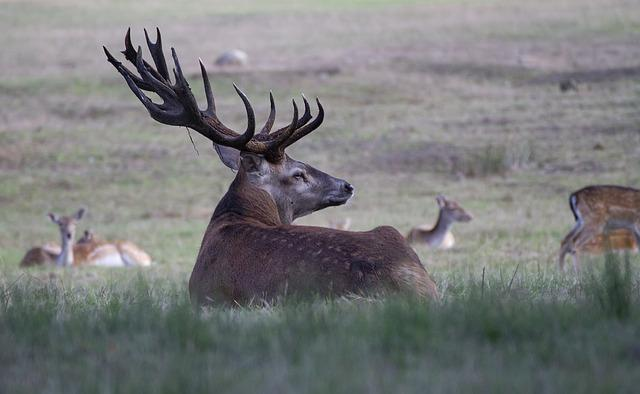Non_Gorille: (58, 21, 505, 336)
